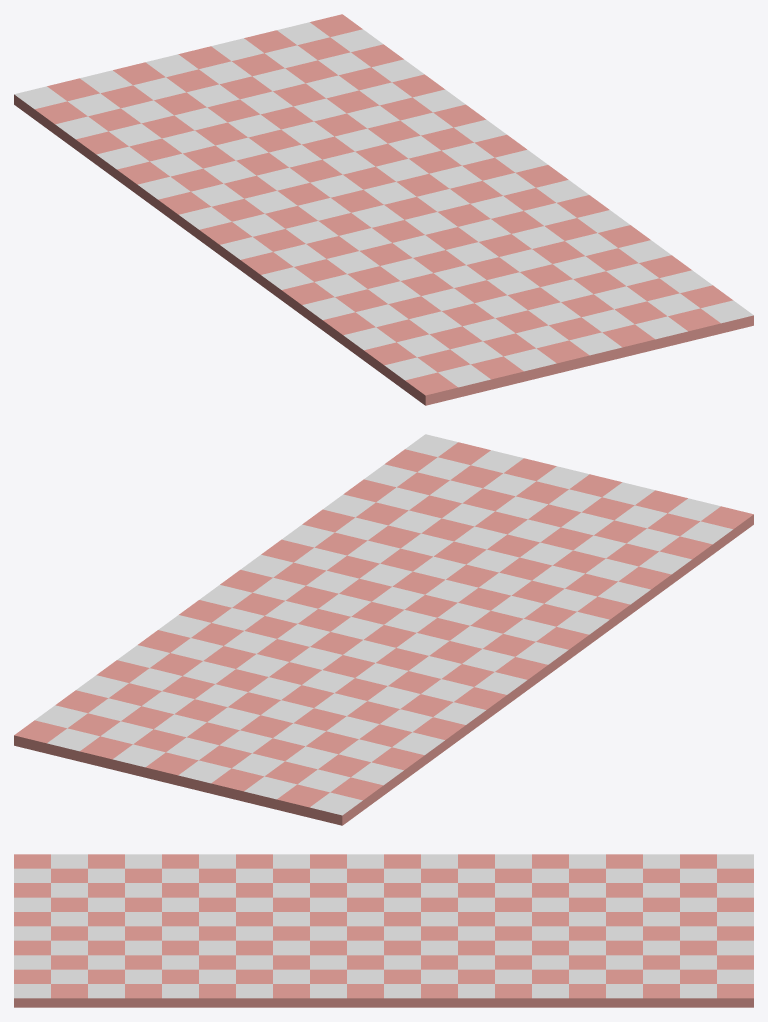
File: 速食店.fbx_櫃前地板.fbx
3 views of the same model, one above another, from view 1: azimuth 30°, elevation 25°; view 2: azimuth 150°, elevation 25°; view 3: azimuth 270°, elevation 25° (orthographic). The views are drawn at different scales.
Visible parts, largest first — view 1: FB; view 2: FB; view 3: FB.
Part boxes in pixels (box(x1,y1,x2,y2)): FB: box(14, 14, 753, 405); FB: box(14, 434, 753, 825); FB: box(14, 854, 753, 1007).
Size of the model in its own units: 1000 by 30 by 2170.
